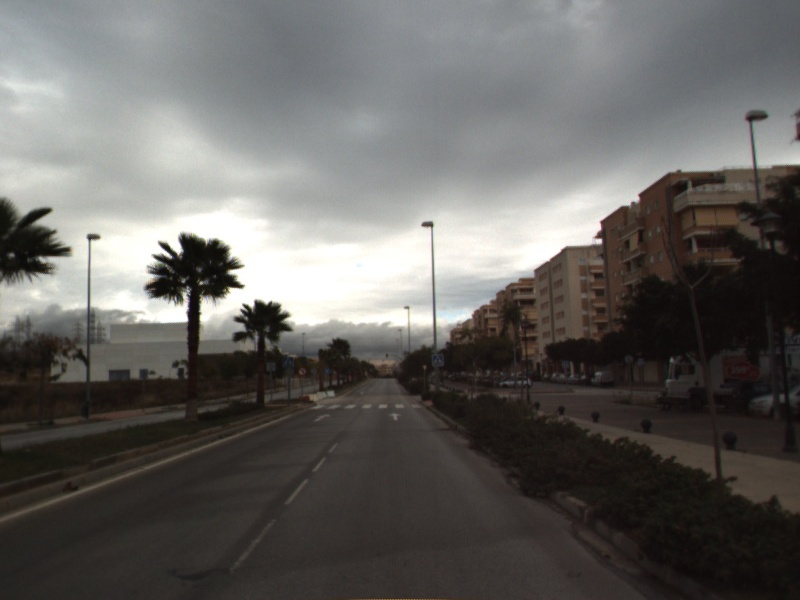STRAIGHT: (312, 411, 333, 424), (386, 410, 404, 422)
